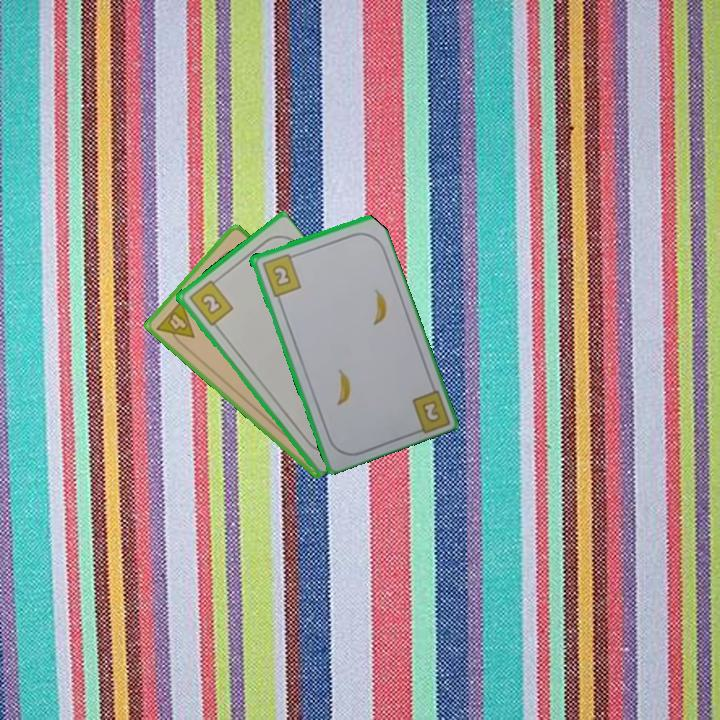2b: (185, 274, 236, 329), (258, 250, 304, 299), (418, 397, 443, 425)
4p: (153, 296, 197, 351)
